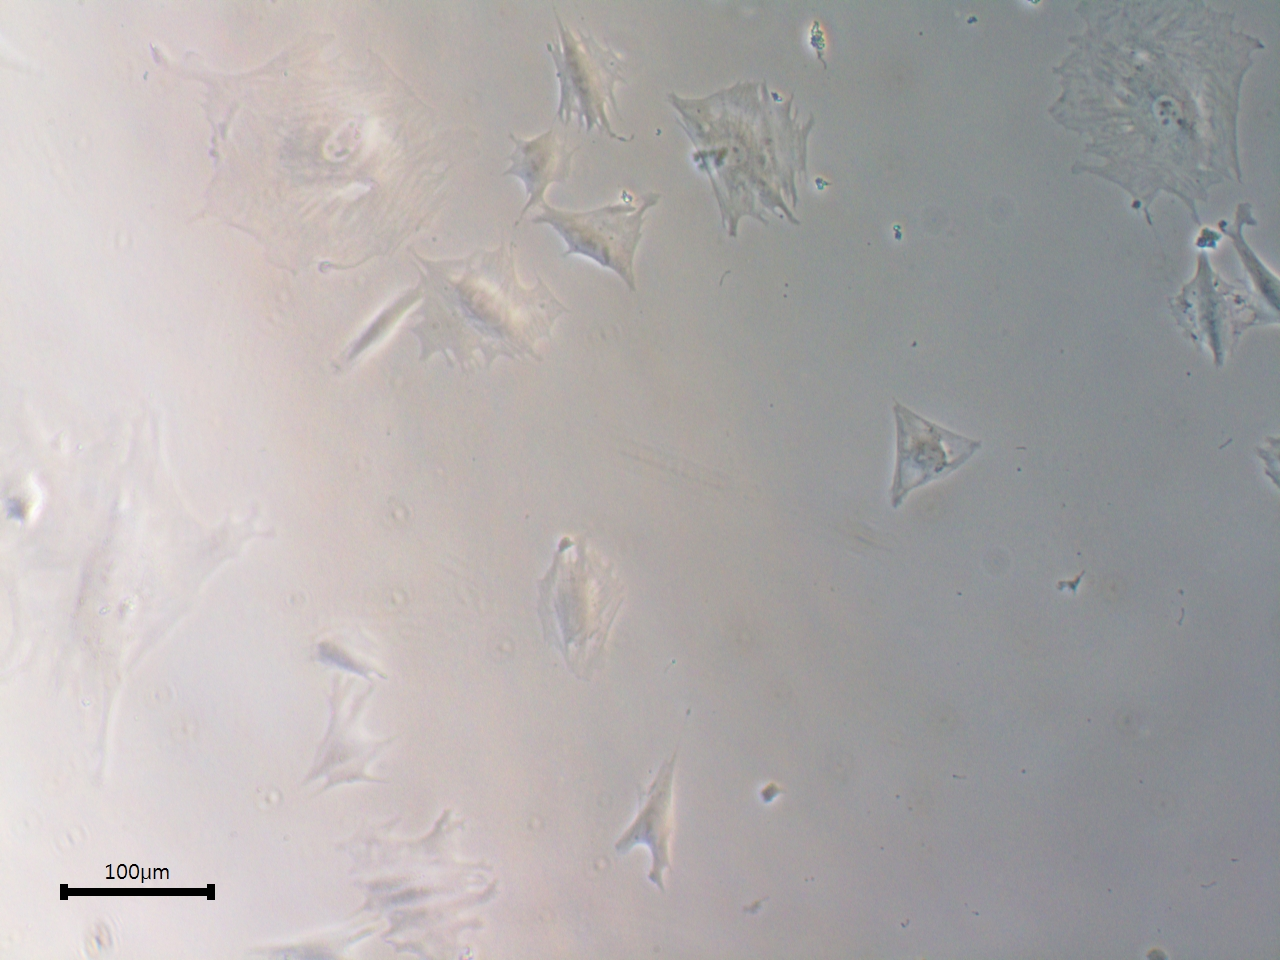large-spread: (127, 21, 485, 283)
medium-spread: (1035, 13, 1280, 207), (656, 81, 852, 261), (396, 234, 575, 385)
small-polygonal: (526, 201, 678, 279), (1163, 251, 1256, 368), (528, 15, 629, 121), (299, 681, 387, 792), (618, 754, 676, 886), (305, 615, 399, 679)
small-spread: (536, 529, 618, 678), (881, 393, 983, 509), (488, 127, 577, 211)
spindle: (328, 273, 421, 360)
